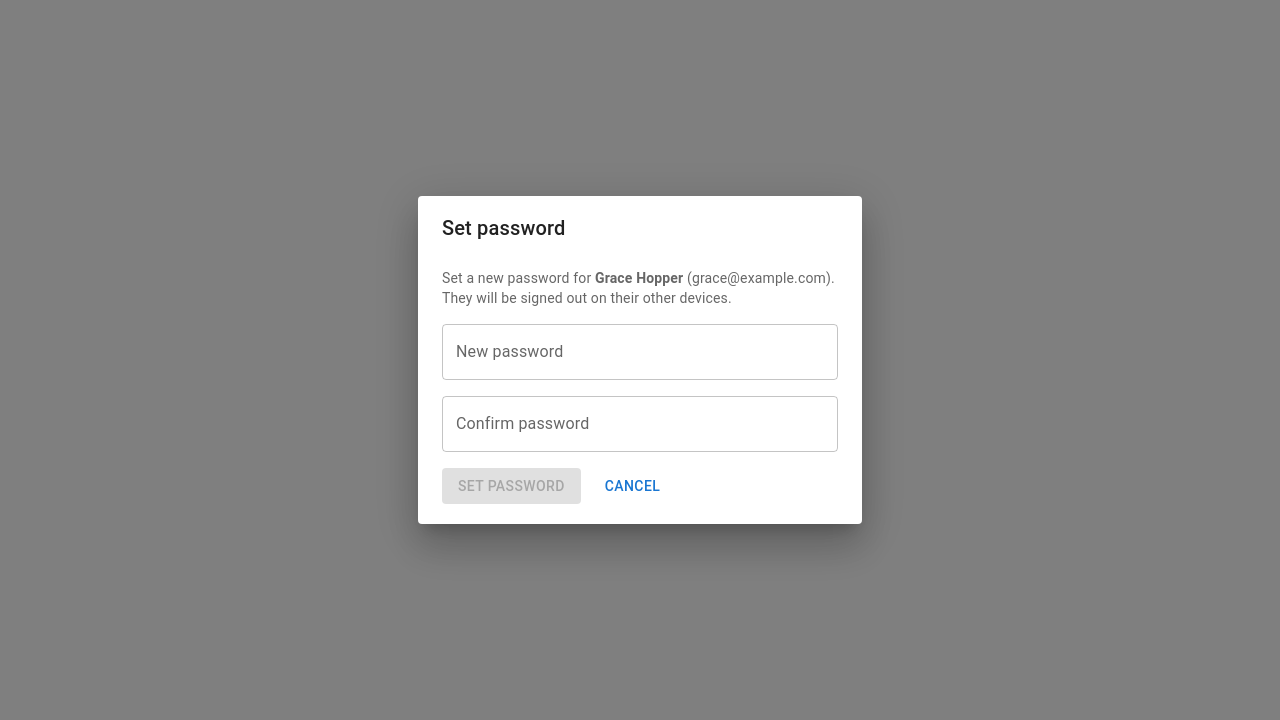
it: SetPasswordDialog › renders the mutation error and keeps the dialog open
The image size is (1280, 720).
Type "abcdefgh" into the password field labelled "New password" at (640, 352), box [442, 324, 838, 380]
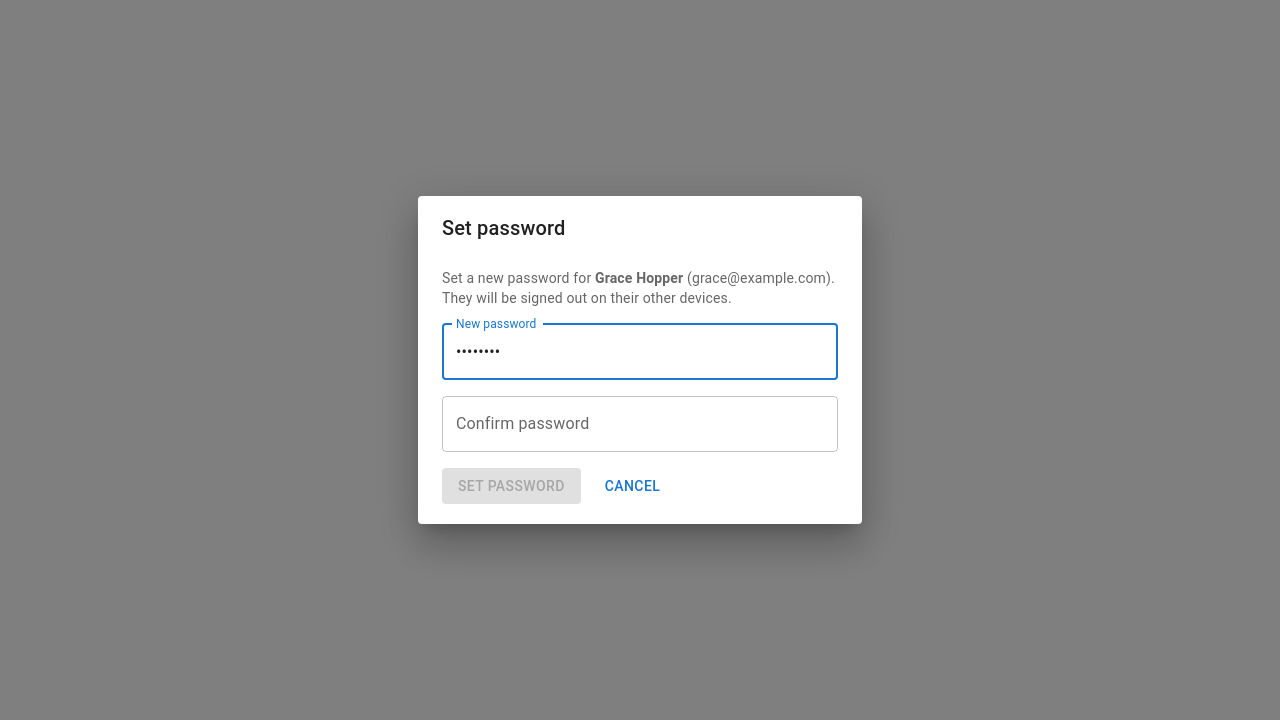
Type "abcdefgh" into the password field labelled "Confirm" at (640, 424), box [442, 396, 838, 452]
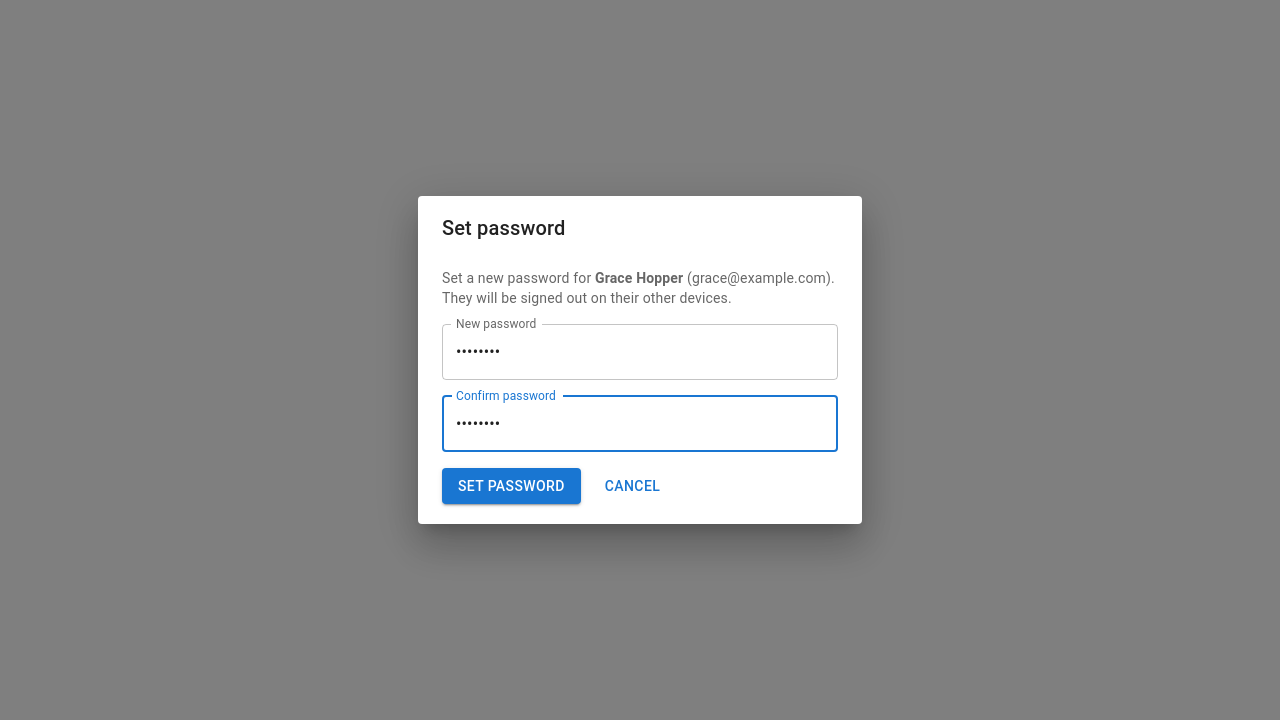
Click the button "Set password" at (511, 486), box [442, 468, 581, 504]
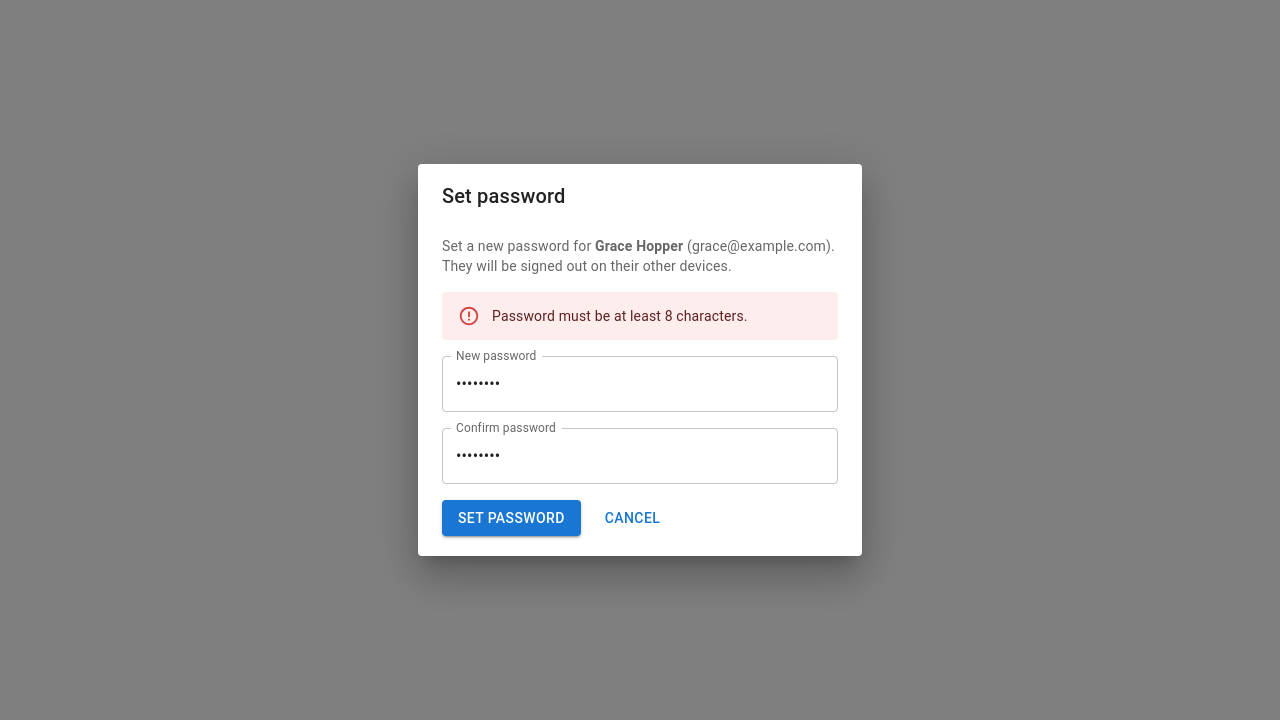
Now the message reads "Password must be at least 8 characters.", box [492, 308, 748, 324]
